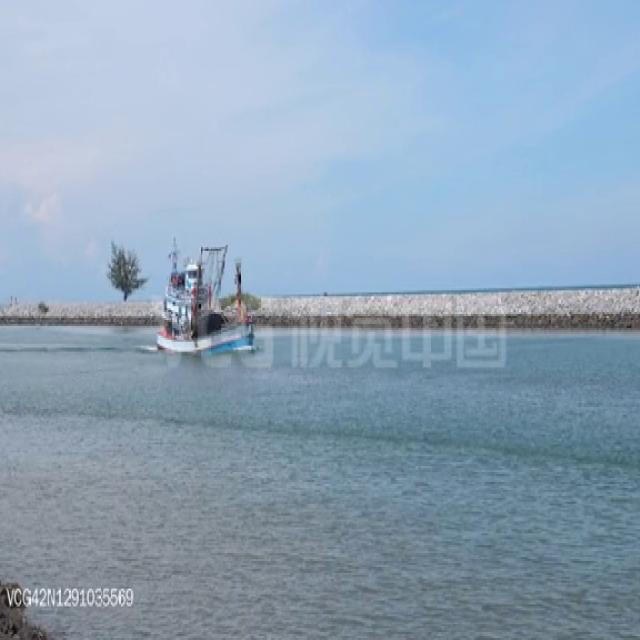fishing boat: (157, 232, 254, 354)
